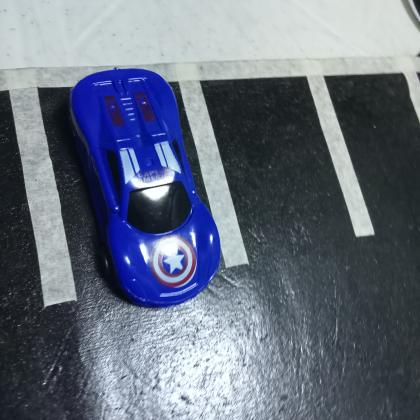Car: (65, 66, 222, 306)
